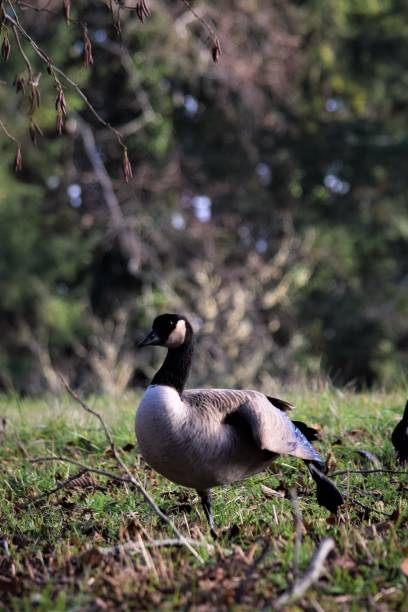goose: (129, 312, 329, 526)
